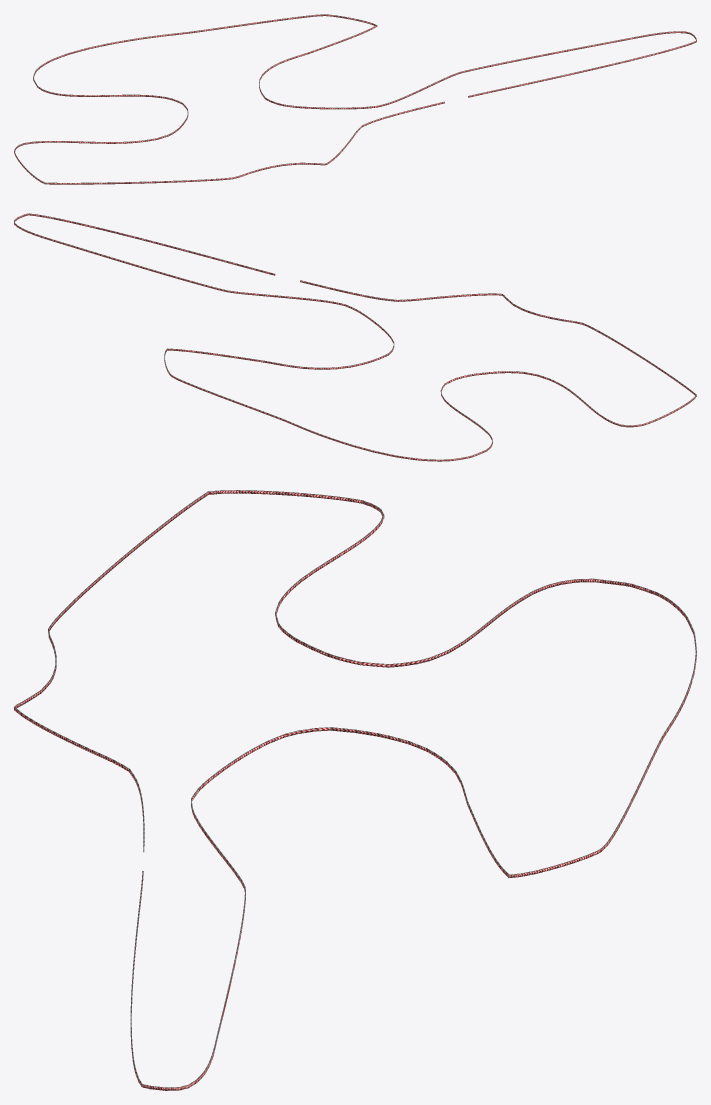
File: racetrackbarrier1.glb
3 views of the same model, one above another, from view 1: azimuth 30°, elevation 25°; view 2: azimuth 150°, elevation 25°; view 3: azimuth 270°, elevation 25° (orthographic). The views are drawn at different scales.
Parts seen in each view (by area): view 1: Cube_042.003; view 2: Cube_042.003; view 3: Cube_042.003.
Part boxes in pixels (x1,y1,x2,y2): Cube_042.003: (14, 14, 696, 184); Cube_042.003: (14, 213, 696, 461); Cube_042.003: (14, 490, 696, 1090).
Size of the model in its own units: 247 by 0.5731 by 119.
1 material, 1 textured.
